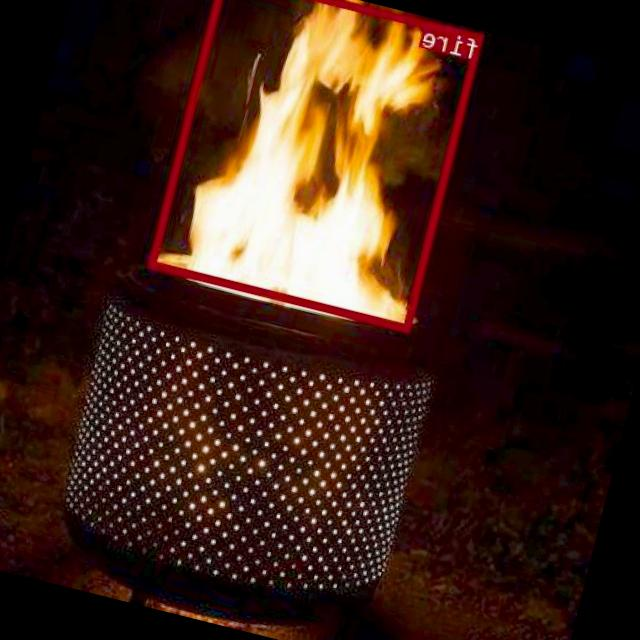fire: (150, 0, 485, 331)
